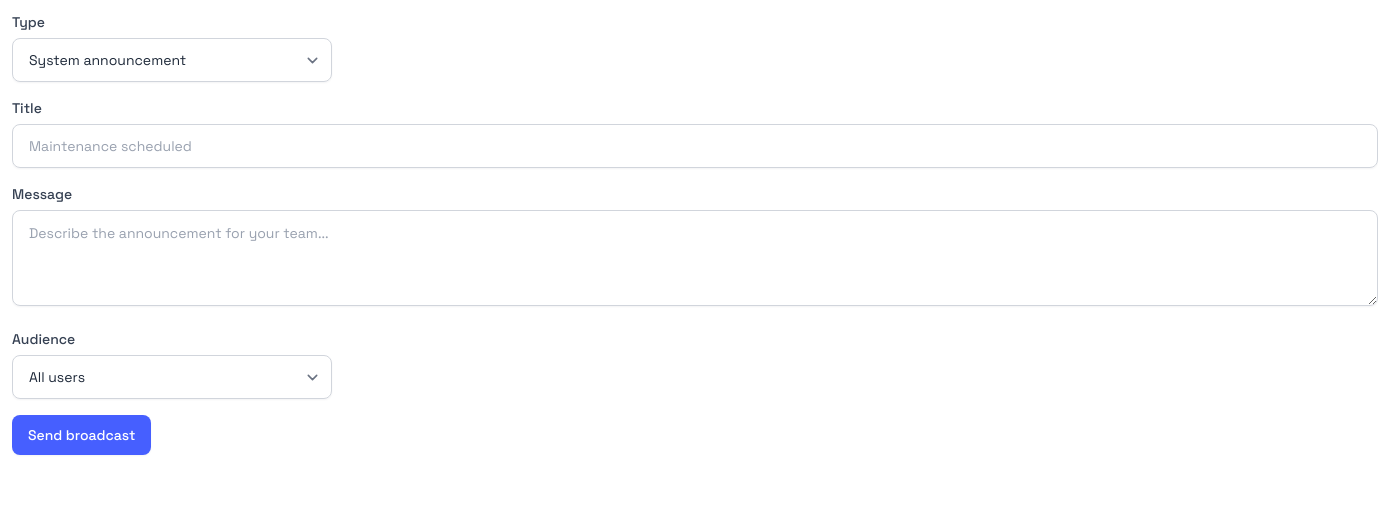
Scenario: NotificationBroadcastForm › shows error when broadcast fails
Expected: the button "Send broadcast" is enabled, [12,415,151,455]
Type "Alert" into the field labelled "Title".
click(695, 146); type("Alert")  # box [12,124,1378,168]
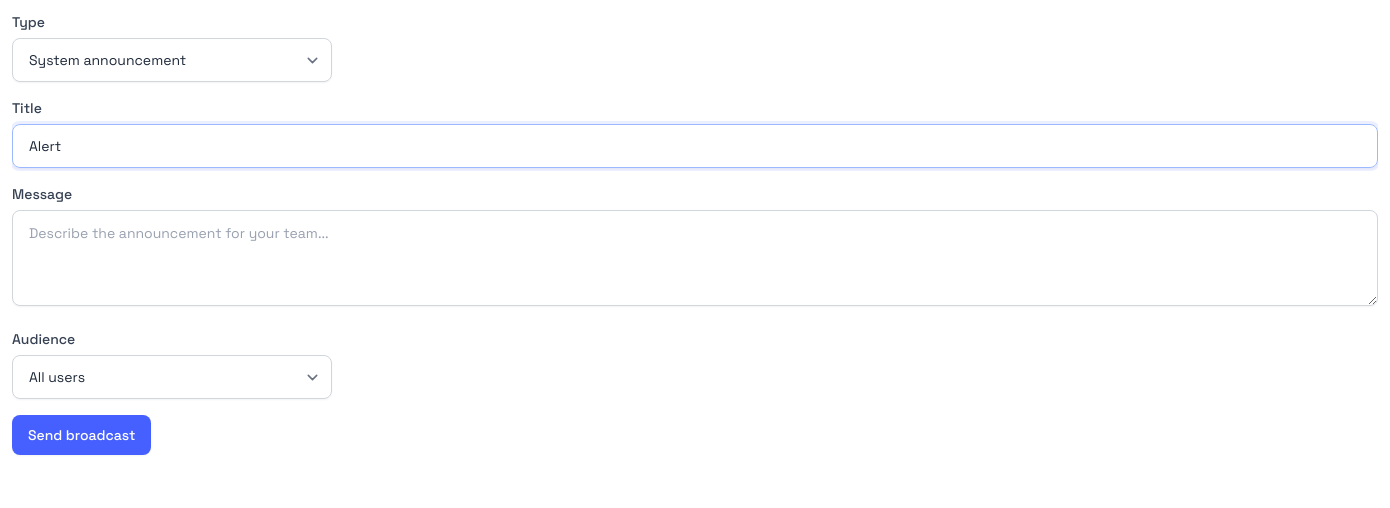
Type "Something went wrong." into the text box labelled "Message".
click(695, 258); type("Something went wrong.")  # box [12,210,1378,306]
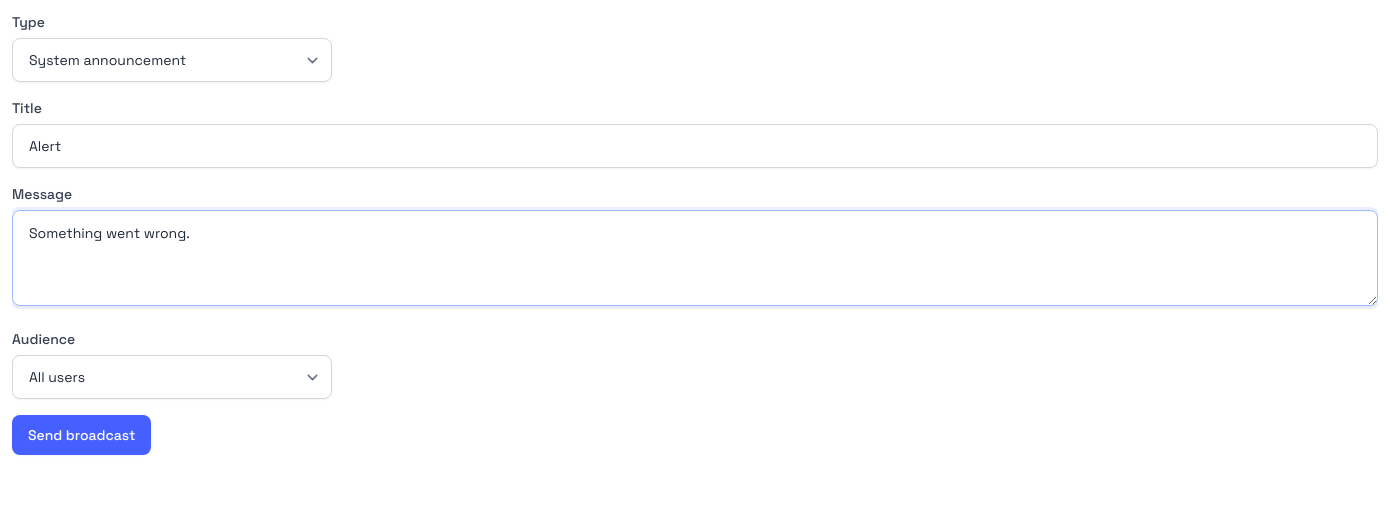
Click the button "Send broadcast".
click(82, 435)  # box [12,415,151,455]
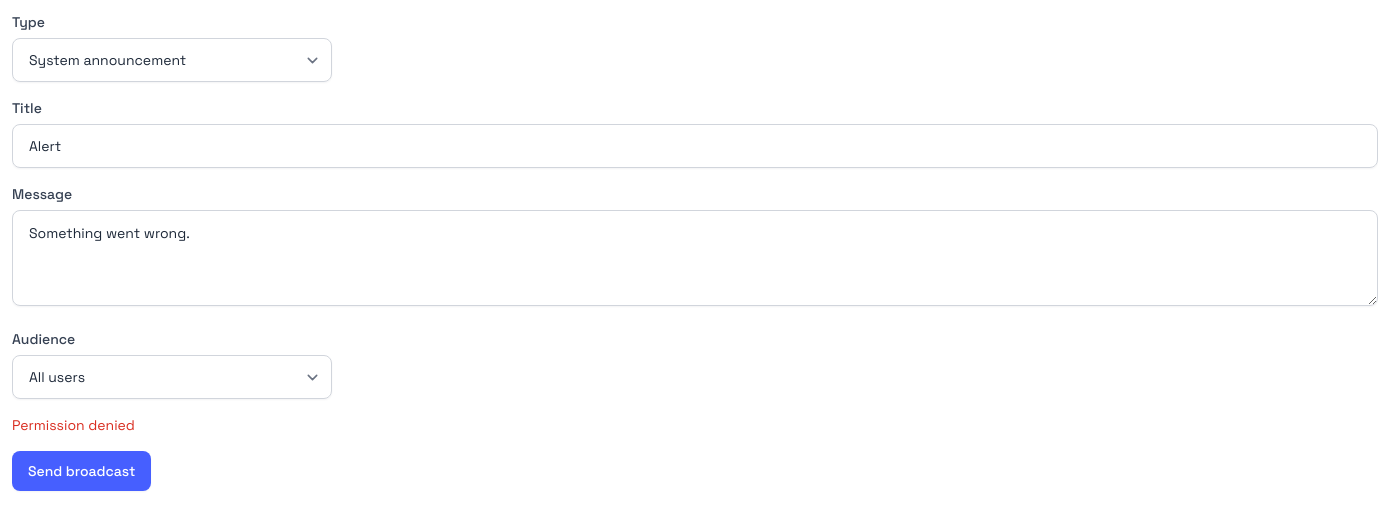
Now the text "Permission denied" is shown, box [12,416,135,434]
